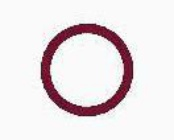RadioButton: (1, 1, 173, 139)
